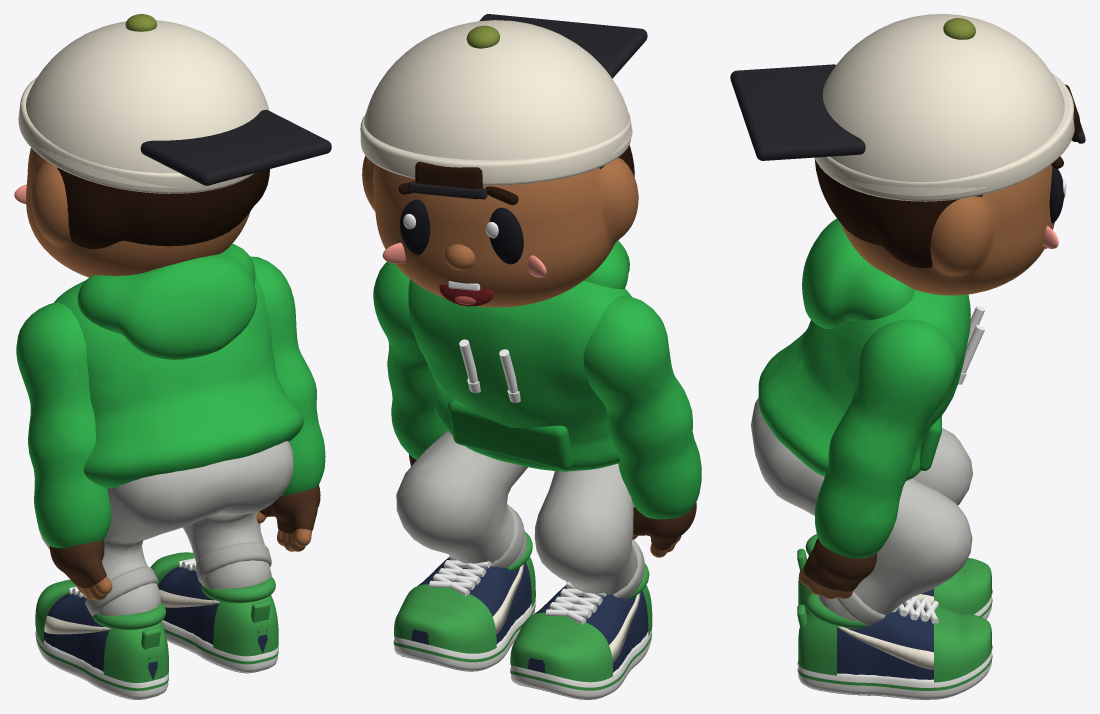
File: GreenRider.fbx
3 views of the same model, side by side, from view 1: azimuth 30°, elevation 25°; view 2: azimuth 150°, elevation 25°; view 3: azimuth 270°, elevation 25° (orthographic). The views are drawn at different scales.
Parts seen in each view (by area): view 1: HeadMesh, BodyMesh, LegLMesh, LegRMesh, ArmLMesh, ArmRMesh; view 2: HeadMesh, BodyMesh, LegRMesh, LegLMesh, ArmLMesh, ArmRMesh; view 3: HeadMesh, LegRMesh, BodyMesh, ArmRMesh, LegLMesh.
Part boxes in pixels (box(x1,y1,x2,y2)): HeadMesh: box(14, 14, 331, 277); BodyMesh: box(54, 244, 303, 488); LegLMesh: box(35, 460, 232, 699); LegRMesh: box(150, 441, 293, 673); ArmLMesh: box(16, 302, 112, 600); ArmRMesh: box(250, 256, 325, 551); HeadMesh: box(360, 14, 647, 307); BodyMesh: box(408, 240, 631, 471); LegRMesh: box(393, 430, 535, 671); LegLMesh: box(510, 463, 652, 699); ArmLMesh: box(583, 295, 701, 557); ArmRMesh: box(373, 261, 446, 466); HeadMesh: box(730, 14, 1085, 295); LegRMesh: box(751, 409, 992, 699); BodyMesh: box(758, 218, 985, 480); ArmRMesh: box(799, 319, 955, 599); LegLMesh: box(752, 398, 992, 621).
Size of the model in its own units: 0.6477 by 1.35 by 0.6816.
